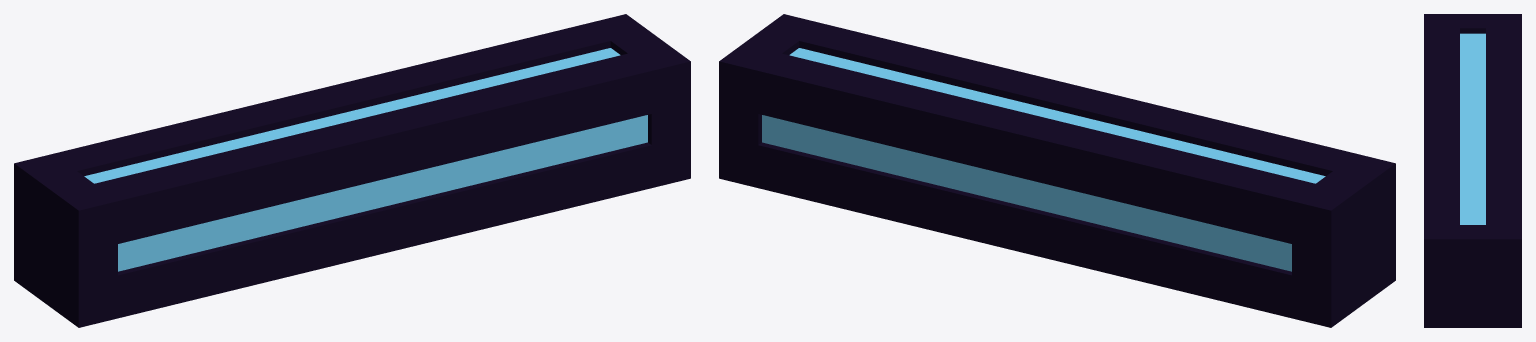
File: Rail Piece.fbx
The picture shows the model from 3 angles, left to right: view 1: azimuth 30°, elevation 25°; view 2: azimuth 150°, elevation 25°; view 3: azimuth 270°, elevation 25°; orthographic projection. The views are drawn at different scales.
Visible parts, largest first — view 1: Cube; view 2: Cube; view 3: Cube.
Part boxes in pixels (left/top/right/bottom): Cube: left=14, top=14, right=690, bottom=327; Cube: left=719, top=14, right=1395, bottom=327; Cube: left=1424, top=14, right=1521, bottom=327.
Bounding box in the file's own units: 400 × 73.24 × 73.24.
